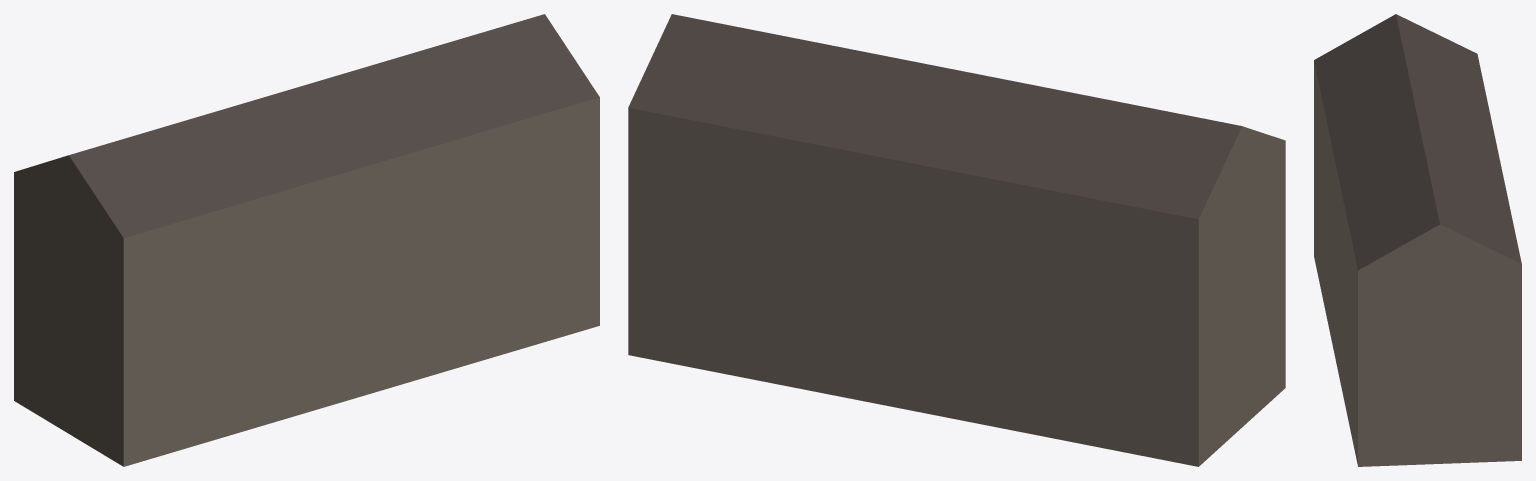
3 renders of one model, left to right at view 1: azimuth 30°, elevation 25°; view 2: azimuth 150°, elevation 25°; view 3: azimuth 270°, elevation 25°, orthographic. The views are drawn at different scales.
Visible parts, largest first — view 1: HP-w1424106465; view 2: HP-w1424106465; view 3: HP-w1424106465.
Part boxes in pixels (x1,y1,x2,y2): HP-w1424106465: (14,14,599,466); HP-w1424106465: (628,14,1285,466); HP-w1424106465: (1314,14,1521,466).
Size of the model in its own units: 14.18 by 7.31 by 5.75.
